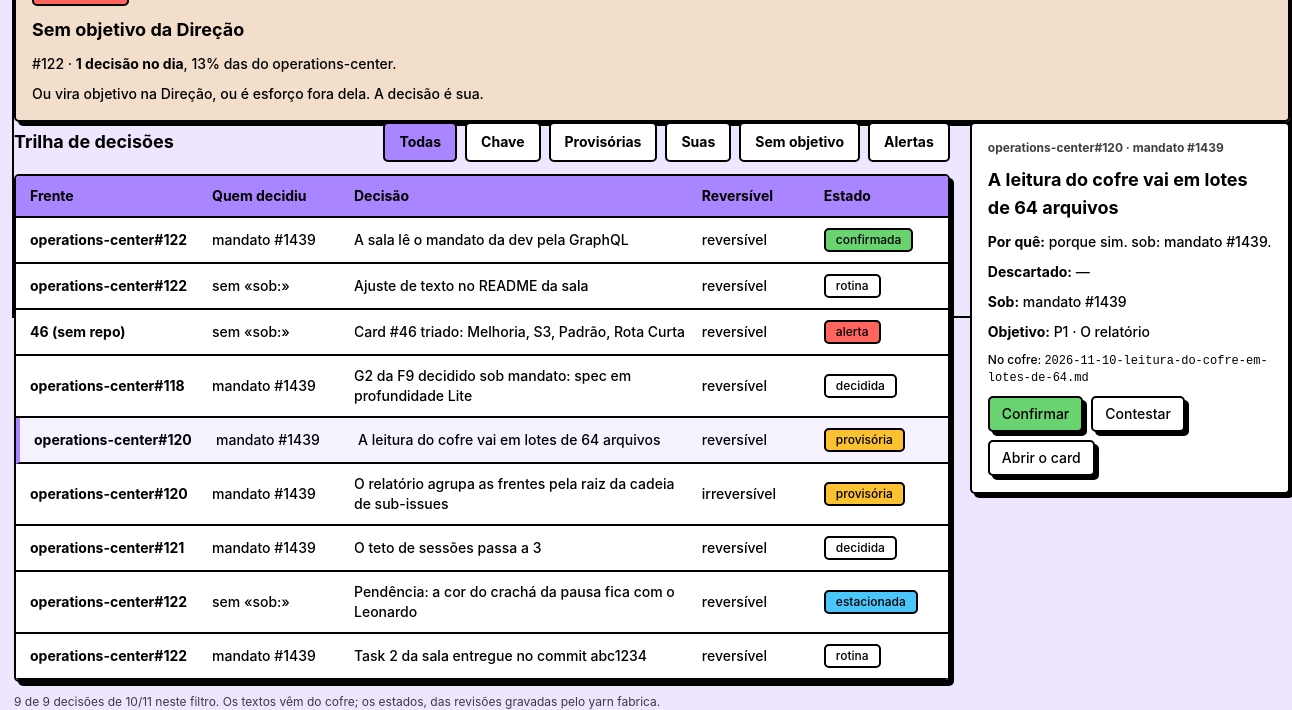
Test case: Portfólio: o detalhe › o padrão é a primeira decisão aberta; clicar numa linha troca
(page scrolled)
Check: the element with test id "fabrica-portfolio-detalhe" is shown, box [970, 122, 1290, 494]
Check: the element with test id "fabrica-portfolio-detalhe" shows "A leitura do cofre vai em lotes de 64 arquivos", box [988, 169, 1248, 218]
Click the button with test id "fabrica-decisoes-linha" at {"x": 482, "y": 387}, box [16, 356, 948, 418]
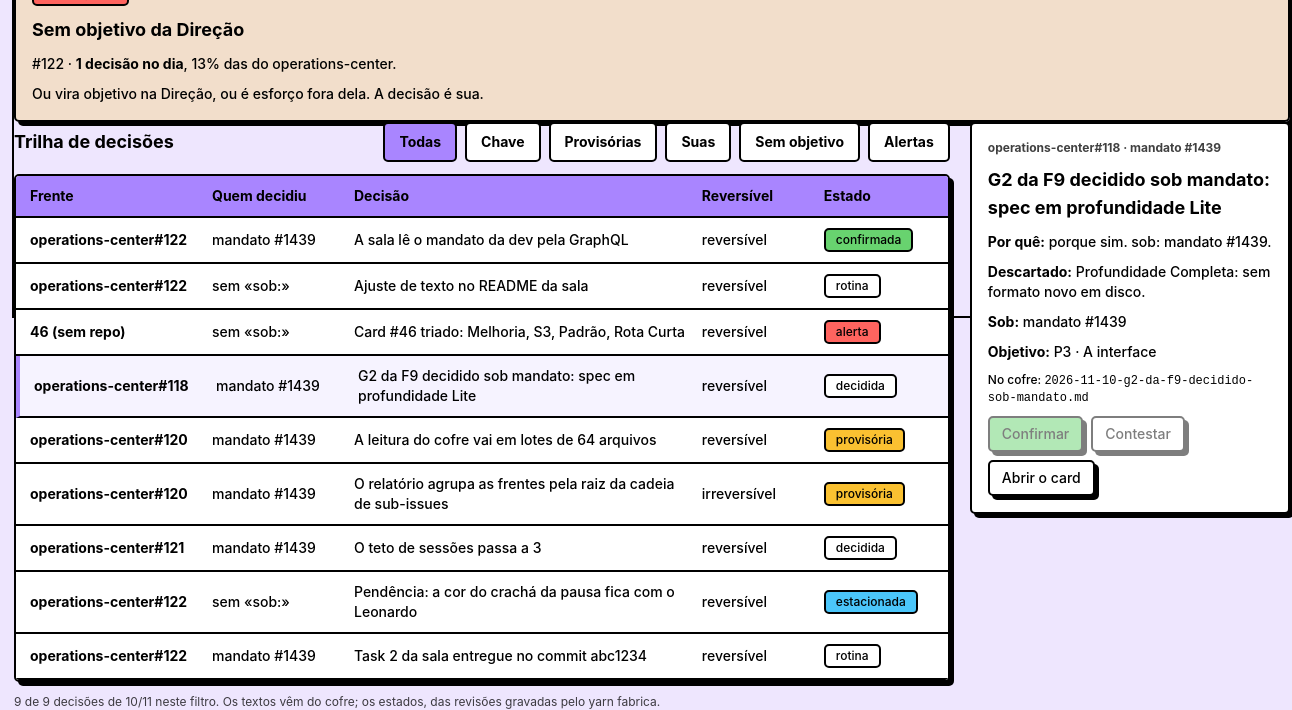
Check: the element with test id "fabrica-portfolio-detalhe" shows "G2 da F9 decidido sob mandato", box [988, 169, 1270, 218]
Check: the element with test id "fabrica-portfolio-detalhe" shows "Profundidade Completa", box [988, 263, 1270, 300]
Check: the element with test id "fabrica-portfolio-detalhe" shows "Objetivo: P3 · A interface", box [970, 122, 1290, 514]
